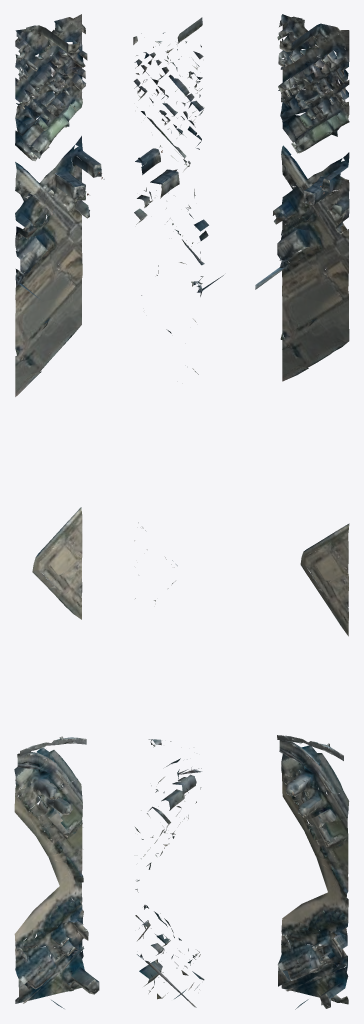
The model's file is 3DTINModel.gltf.
3 views of the same model, side by side, from view 1: azimuth 30°, elevation 25°; view 2: azimuth 150°, elevation 25°; view 3: azimuth 330°, elevation 25° (orthographic).
Visible parts, largest first — view 1: D:\aistdata\3D-TINModel\3DTINModel.osg_3D-TINModel_without_l (×12); view 2: D:\aistdata\3D-TINModel\3DTINModel.osg_3D-TINModel_without_l (×6); view 3: D:\aistdata\3D-TINModel\3DTINModel.osg_3D-TINModel_without_l (×12).
Boxes of the visible parts, bbox=[...] form: D:\aistdata\3D-TINModel\3DTINModel.osg_3D-TINModel_without_l (×12): bbox=[14, 14, 104, 1008]; D:\aistdata\3D-TINModel\3DTINModel.osg_3D-TINModel_without_l (×6): bbox=[133, 17, 208, 1007]; D:\aistdata\3D-TINModel\3DTINModel.osg_3D-TINModel_without_l (×12): bbox=[255, 14, 349, 1009].
Size of the model in its own units: 253 by 3501 by 196.
12 materials, 12 textured.
